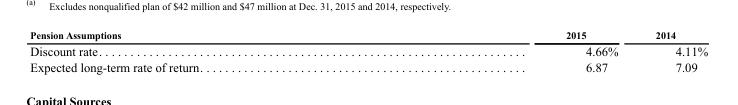table: (29, 28, 707, 73)
table column: (29, 28, 383, 73), (383, 28, 636, 73), (636, 28, 707, 73)
table column header: (29, 28, 707, 41)
table row: (29, 41, 707, 58), (29, 58, 707, 73), (29, 28, 707, 41)
